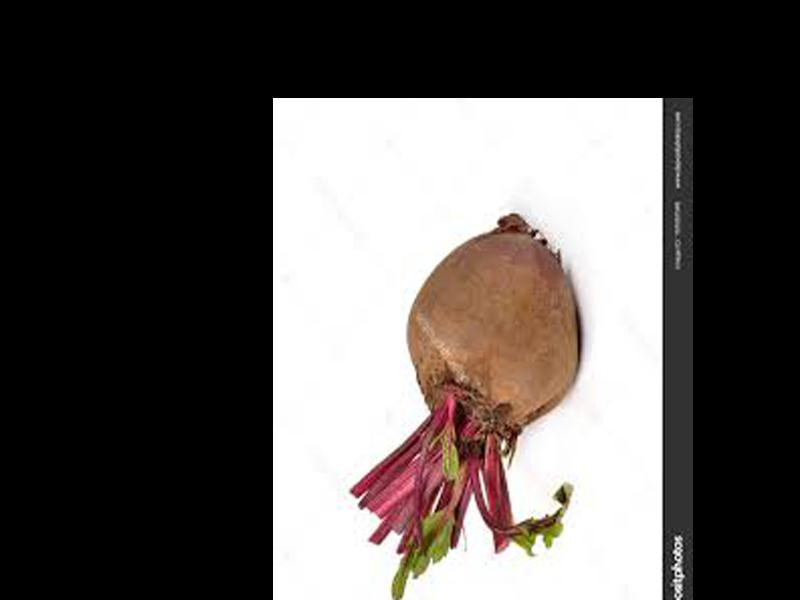Beet: (349, 213, 582, 600)
